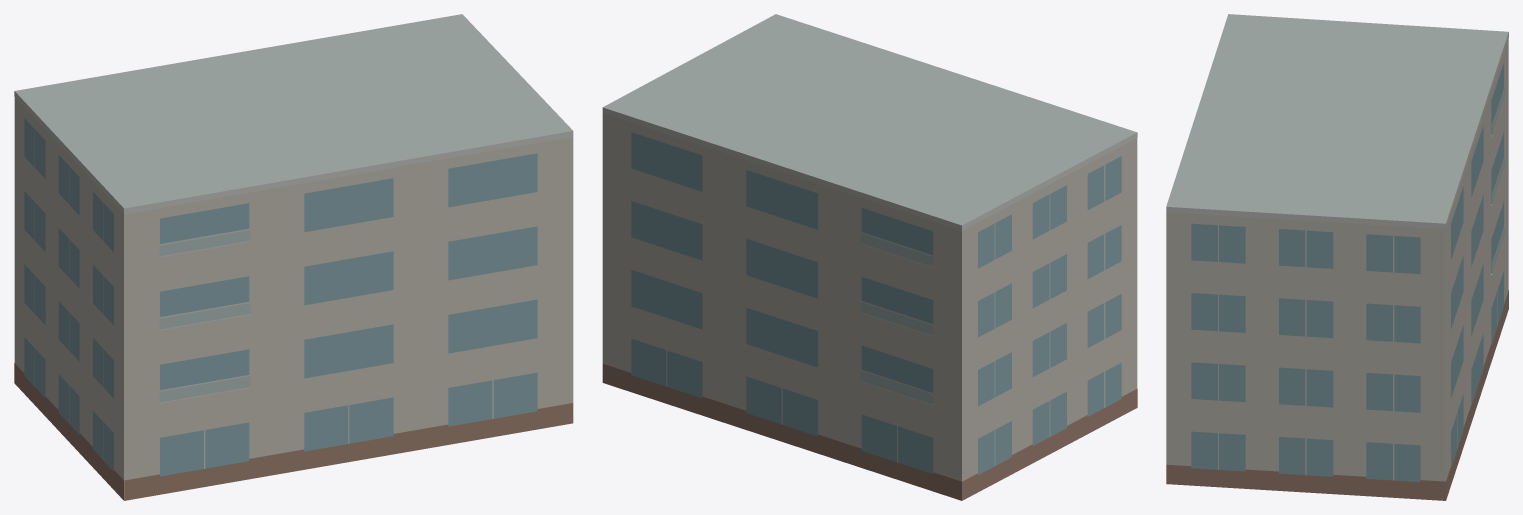
Rendered from survey-upis-32672210.glb.
3 views of the same model, side by side, from view 1: azimuth 30°, elevation 25°; view 2: azimuth 150°, elevation 25°; view 3: azimuth 270°, elevation 25° (orthographic). The views are drawn at different scales.
Parts seen in each view (by area): view 1: survey-upis-32672210.tmp; view 2: survey-upis-32672210.tmp; view 3: survey-upis-32672210.tmp.
Boxes of the visible parts, box(x1,y1,x2,y2) form: survey-upis-32672210.tmp: box(14, 14, 573, 500); survey-upis-32672210.tmp: box(602, 14, 1137, 500); survey-upis-32672210.tmp: box(1166, 14, 1508, 500).
Bounding box in the file's own units: 20.08 × 12.38 × 13.87.
